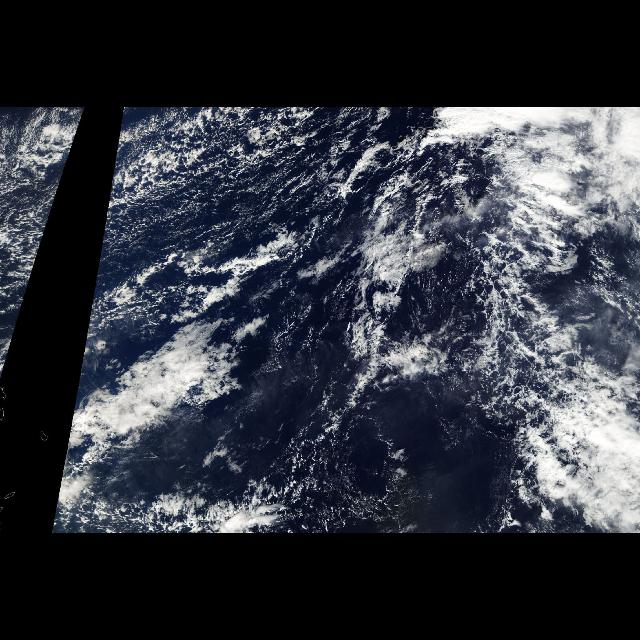Fish: (332, 162, 640, 532)
Gravel: (90, 110, 346, 302), (5, 110, 85, 302)
Sugar: (131, 123, 463, 293)
